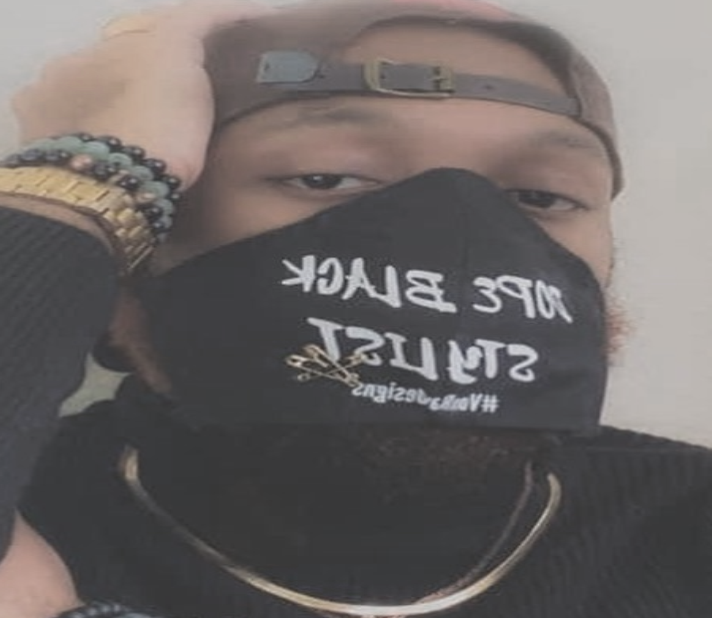mask_weared_incorrect: (74, 0, 651, 504)
